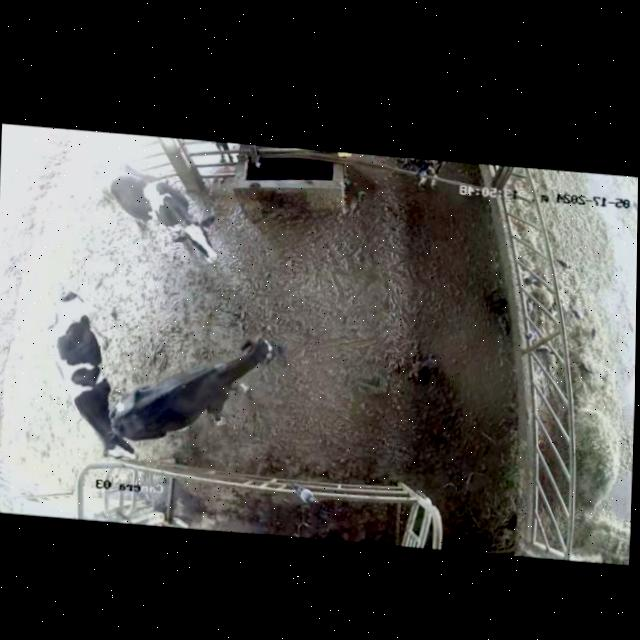stand: (111, 315, 290, 454), (47, 268, 145, 467), (94, 151, 232, 277)
